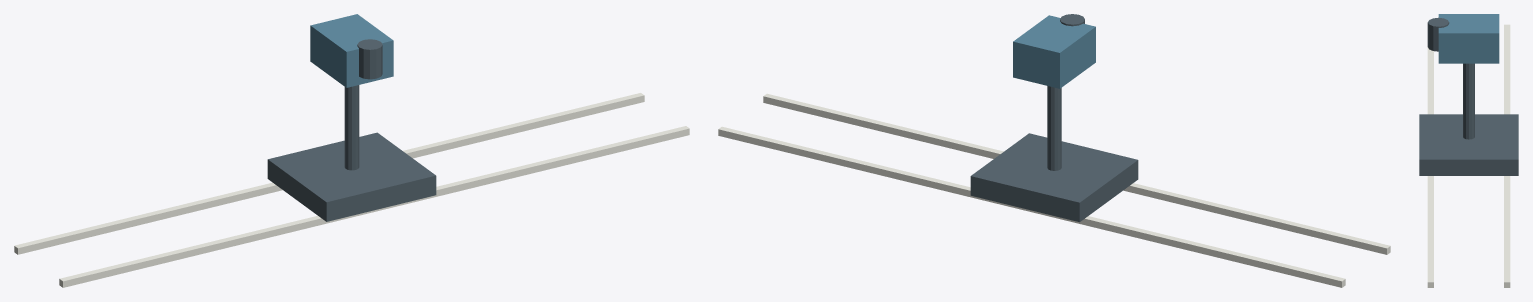
File: camera_rail.glb
The picture shows the model from 3 angles, left to right: view 1: azimuth 30°, elevation 25°; view 2: azimuth 150°, elevation 25°; view 3: azimuth 270°, elevation 25°; orthographic projection. The views are drawn at different scales.
Visible parts, largest first — view 1: camera-rail; view 2: camera-rail; view 3: camera-rail.
Part boxes in pixels (x1,y1,x2,y2): camera-rail: [14, 14, 689, 287]; camera-rail: [718, 14, 1390, 287]; camera-rail: [1419, 14, 1518, 287].
Size of the model in its own units: 4 by 0.99 by 0.65.
